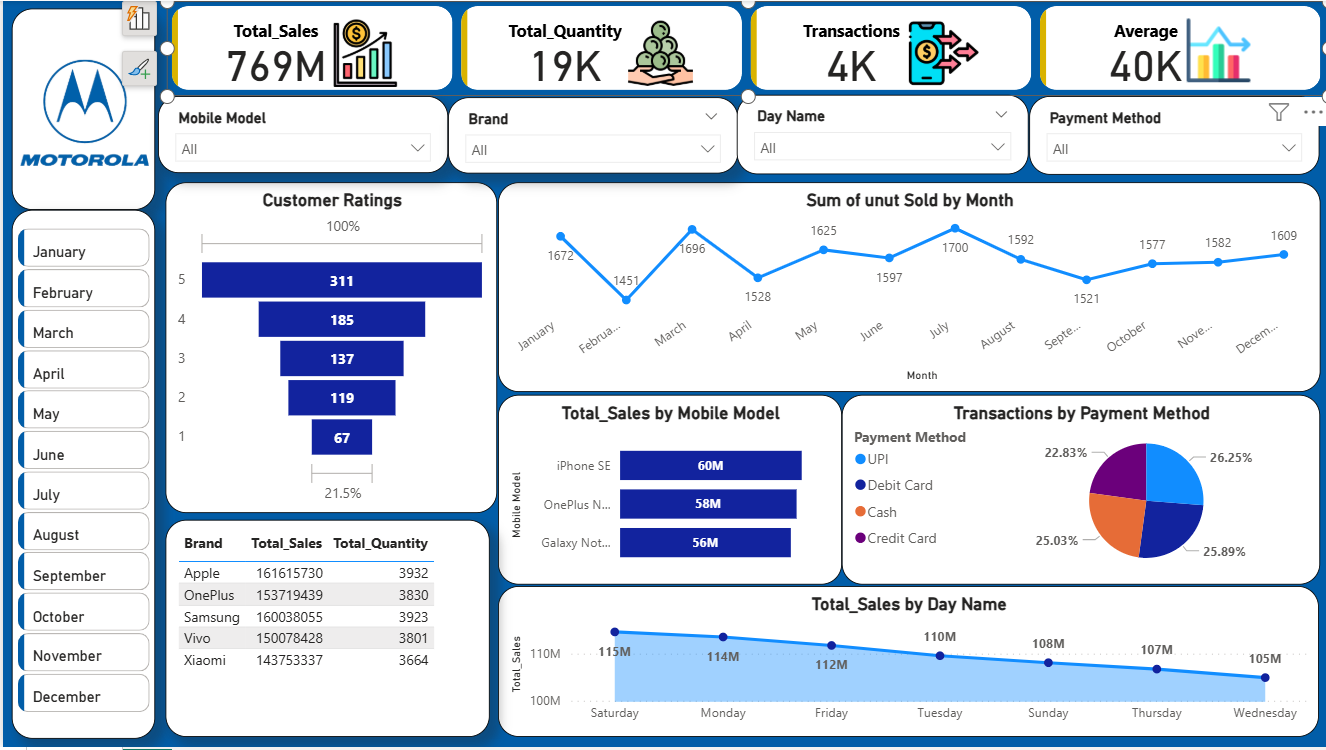

The dashboard page shown, as its layout file describes it:
{"tool":"powerbi","page":{"name":"Page 1","canvas":[1280,720],"ordinal":0},"visuals":[{"type":"shape","box":[5.5,6.9,120.8,148.2],"z":0},{"type":"image","box":[9.6,16.5,113.9,116.6],"z":1000},{"type":"shape","box":[6.9,156.4,119.4,554.4],"z":2000},{"type":"advancedSlicerVisual","fields":{"Values":["Sales_Data.Date.Variation.Date Hierarchy.Month"]},"box":[11,160.5,111.1,548.9],"z":3000},{"type":"cardVisual","fields":{"Data":["Sales_Data.Total Sales","Sales_Data.Total Quantity","Sales_Data.Transactions","Sales_Data.Average"]},"box":[134,5.6,1140.1,83.7],"z":4000},{"type":"map","fields":{"Category":["Sales_Data.City"],"Size":["Sales_Data.Total Sales"]},"box":[132.9,160.8,384.1,393.1],"z":5000},{"type":"lineChart","fields":{"Y":["Sales_Data.Total Quantity"],"Category":["Sales_Data.Date.Variation.Date Hierarchy.Month","Sales_Data.Date.Variation.Date Hierarchy.Day"]},"box":[525.9,160.8,744.8,178.7],"z":6000},{"type":"clusteredBarChart","fields":{"Category":["Sales_Data.Mobile Model"],"Y":["Sales_Data.Total Sales"]},"box":[528.3,558.5,310.1,160.5],"z":7000},{"type":"pieChart","fields":{"Category":["Sales_Data.Payment Method"],"Y":["Sales_Data.Transactions"]},"box":[842.5,344.4,428.1,209.9],"z":8000},{"type":"funnel","title":"Customer Ratings","fields":{"Category":["Sales_Data.Customer Ratings"],"Y":["CountNonNull(Sales_Data.Customer Ratings)"]},"box":[529.7,344.4,304.6,209.9],"z":9000},{"type":"areaChart","fields":{"Category":["Sales_Data.Day Name"],"Y":["Sales_Data.Total Sales"]},"box":[845.3,557.1,428.1,159.2],"z":10000},{"type":"tableEx","fields":{"Values":["Sales_Data.Brand","Sales_Data.Total Sales","Sales_Data.Total Quantity","Sales_Data.Transactions"]},"box":[135.8,557.1,384.2,159.2],"z":11000},{"type":"slicer","fields":{"Values":["Sales_Data.Mobile Model"]},"box":[136.2,87.1,281.4,70.3],"z":12000},{"type":"slicer","fields":{"Values":["Sales_Data.Payment Method"]},"box":[421,87.1,281.4,69.2],"z":13000},{"type":"slicer","fields":{"Values":["Sales_Data.Brand"]},"box":[703.5,87.1,281.4,69.2],"z":14000},{"type":"slicer","fields":{"Values":["Sales_Data.Day Name"]},"box":[988.2,87.1,281.4,69.2],"z":15000}]}

Visuals, with their boxes in screenshot pixels (x1, y1, x2, y2), scaled from the page's 1280x720 canvas onto the 1326x750 screenshot:
shape: <bbox>6, 7, 131, 162</bbox>
image: <bbox>10, 17, 128, 139</bbox>
shape: <bbox>7, 163, 131, 740</bbox>
advancedSlicerVisual - Sales_Data.Date.Variation.Date Hierarchy.Month: <bbox>11, 167, 126, 739</bbox>
cardVisual - Sales_Data.Total Sales x Sales_Data.Total Quantity: <bbox>139, 6, 1320, 93</bbox>
map - Sales_Data.City x Sales_Data.Total Sales: <bbox>138, 168, 536, 577</bbox>
lineChart - Sales_Data.Total Quantity x Sales_Data.Date.Variation.Date Hierarchy.Month: <bbox>545, 168, 1316, 354</bbox>
clusteredBarChart - Sales_Data.Mobile Model x Sales_Data.Total Sales: <bbox>547, 582, 869, 749</bbox>
pieChart - Sales_Data.Payment Method x Sales_Data.Transactions: <bbox>873, 359, 1316, 577</bbox>
"Customer Ratings" funnel: <bbox>549, 359, 864, 577</bbox>
areaChart - Sales_Data.Day Name x Sales_Data.Total Sales: <bbox>876, 580, 1319, 746</bbox>
tableEx - Sales_Data.Brand x Sales_Data.Total Sales: <bbox>141, 580, 539, 746</bbox>
slicer - Sales_Data.Mobile Model: <bbox>141, 91, 433, 164</bbox>
slicer - Sales_Data.Payment Method: <bbox>436, 91, 728, 163</bbox>
slicer - Sales_Data.Brand: <bbox>729, 91, 1020, 163</bbox>
slicer - Sales_Data.Day Name: <bbox>1024, 91, 1315, 163</bbox>
